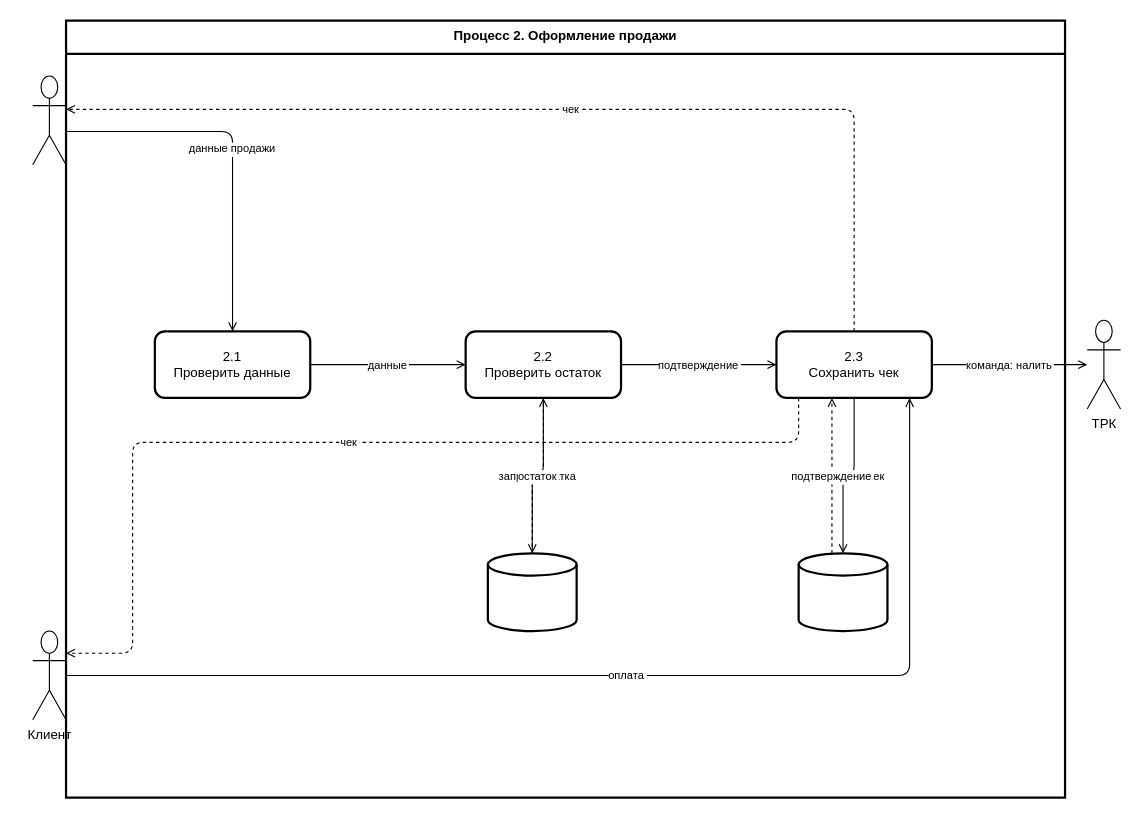
Image size: 1140x817. Some labels were removed from this diagram. Here are the shapes that lost their labels. From the top down, the centre of each, then its label:
At (49,120): "Оператор".
At (531,592): "D2 Топливо".
At (842,592): "D3 Чеки".
